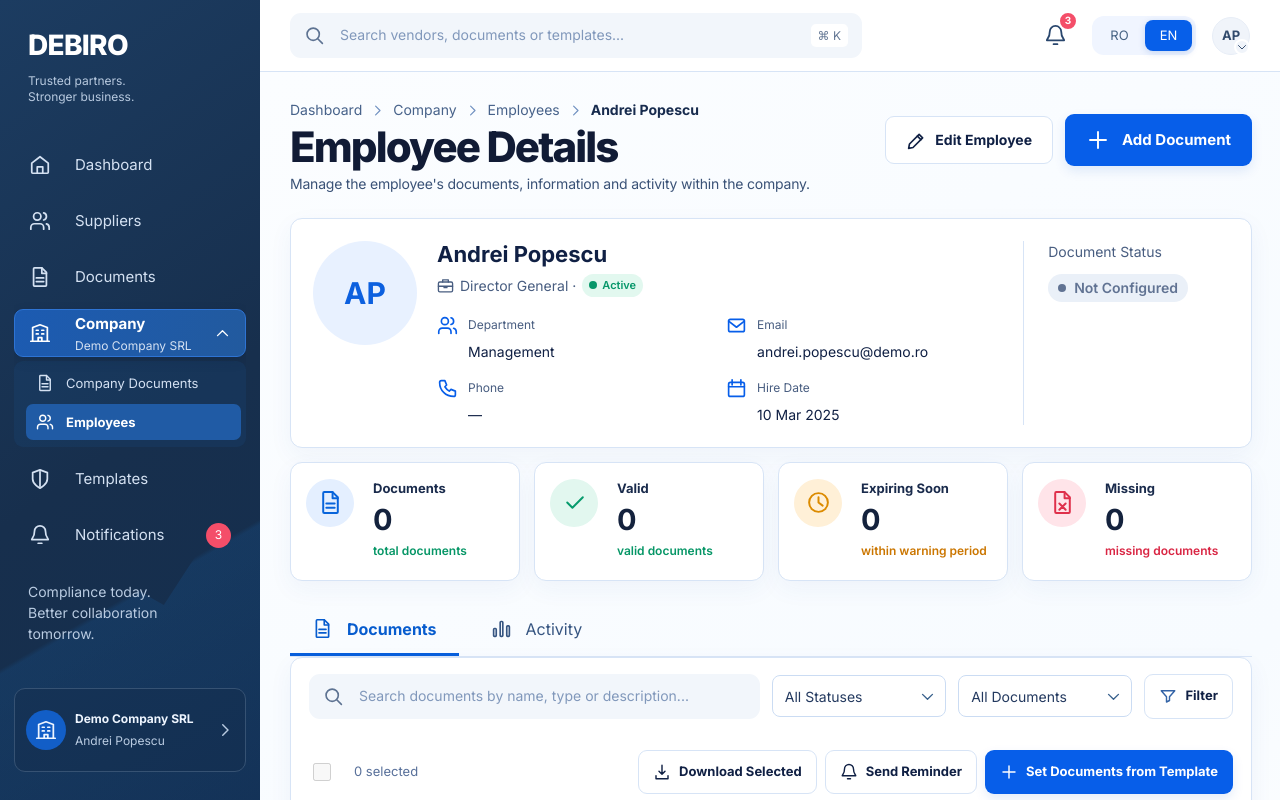
Test case: Employee Details shared document UI › has truthful empty status, no fixture activity, accessible tabs and no obsolete drawer notice in en
Expected: the heading "Employee Details" is shown, x1=290 y1=121 x2=618 y2=172
Expected: the heading "Andrei Popescu" is shown, x1=437 y1=241 x2=607 y2=267
Press ArrowRight in the tab "Documents", box x1=290 y1=605 x2=458 y2=656
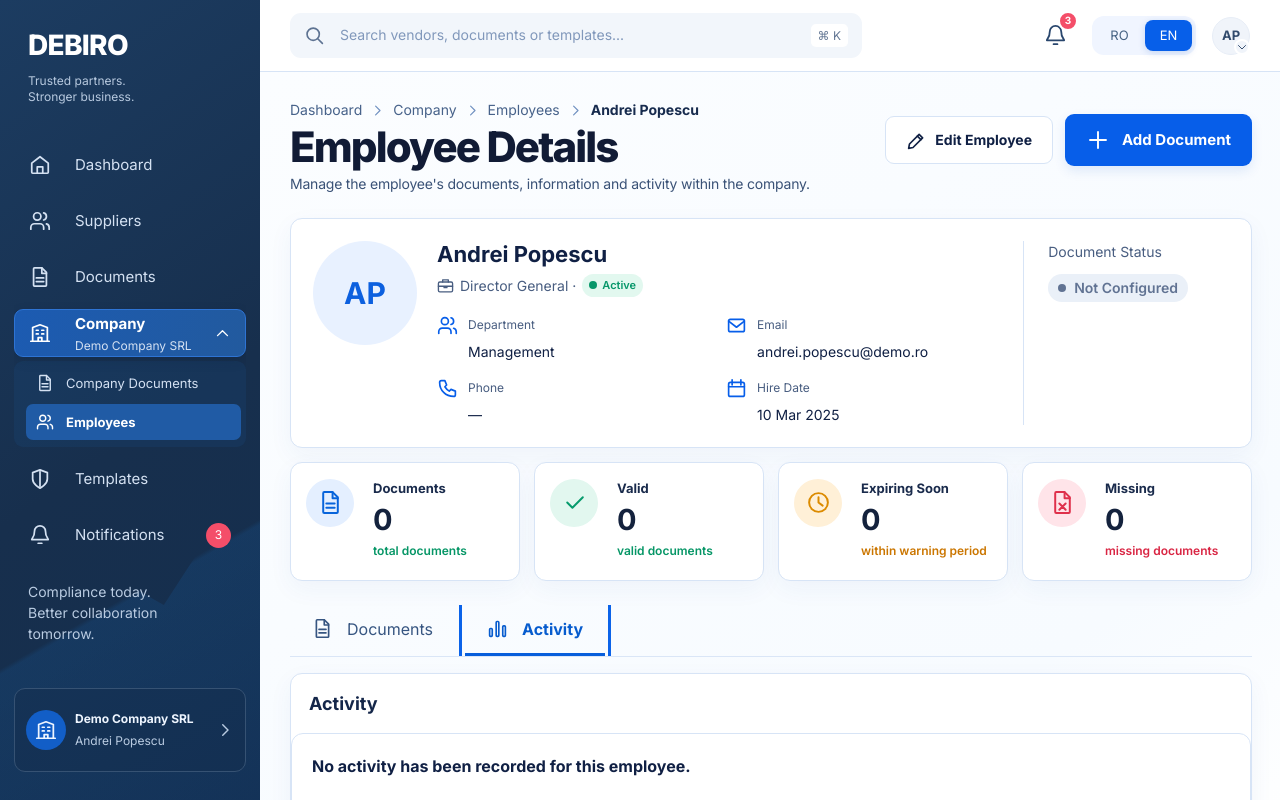
Expected: the text "No activity has been recorded for this employee." is shown, x1=312 y1=756 x2=691 y2=776
Click the tab "Documents" at (373, 630), box x1=290 y1=605 x2=455 y2=656
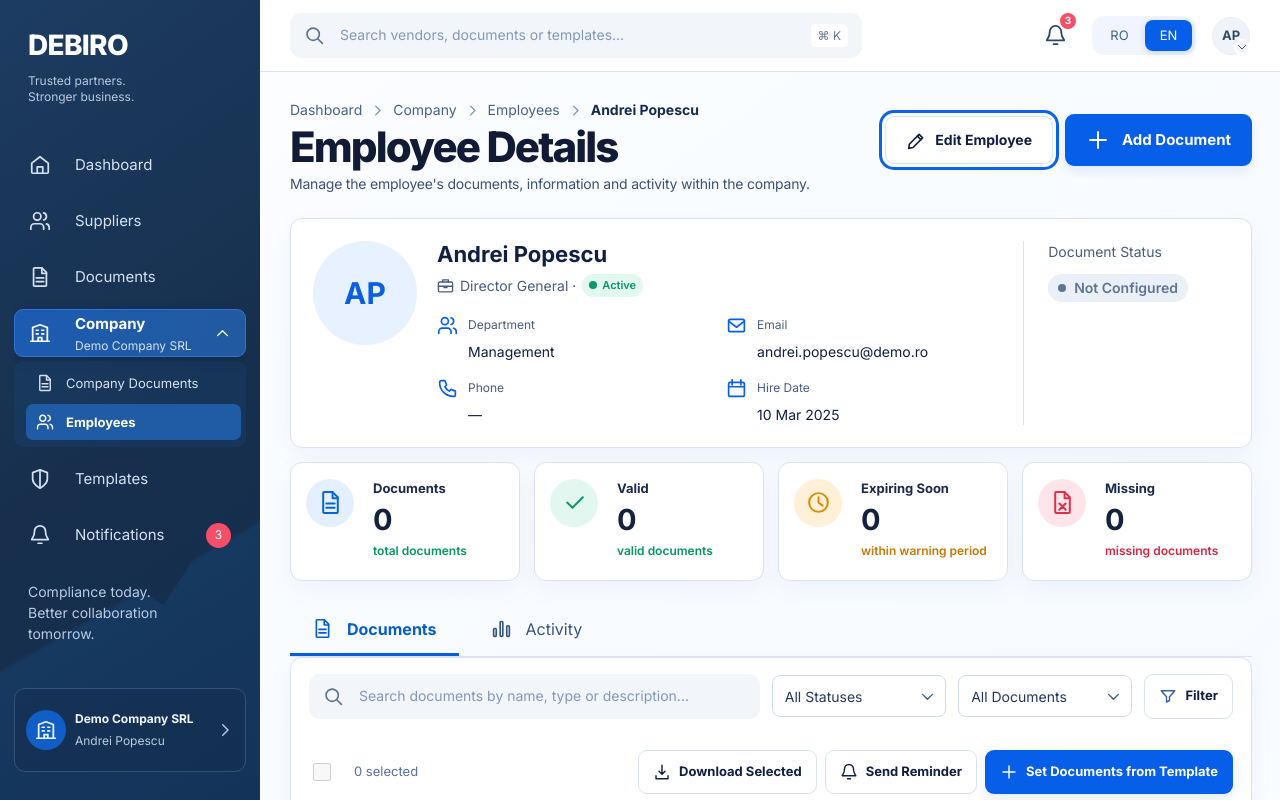
Click the button "Edit Employee" at (969, 140), box x1=885 y1=116 x2=1053 y2=164
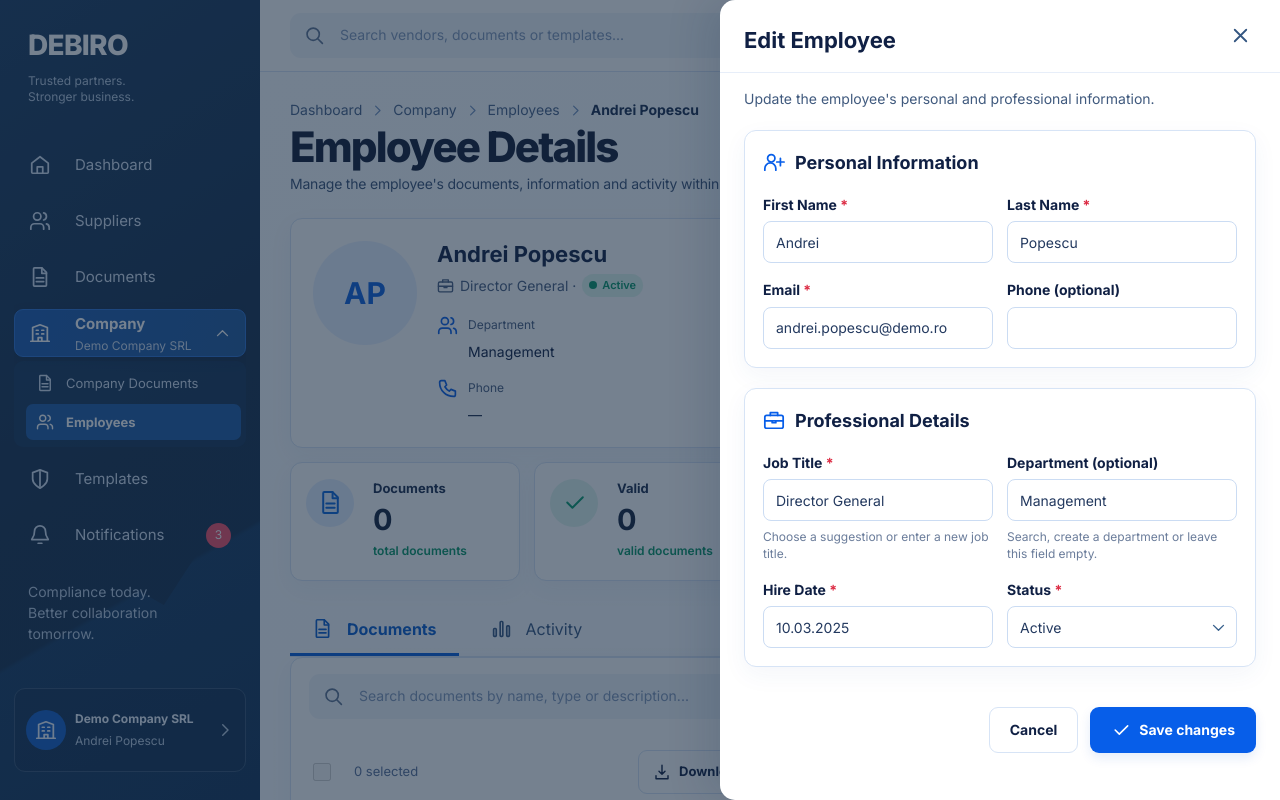
Press Escape
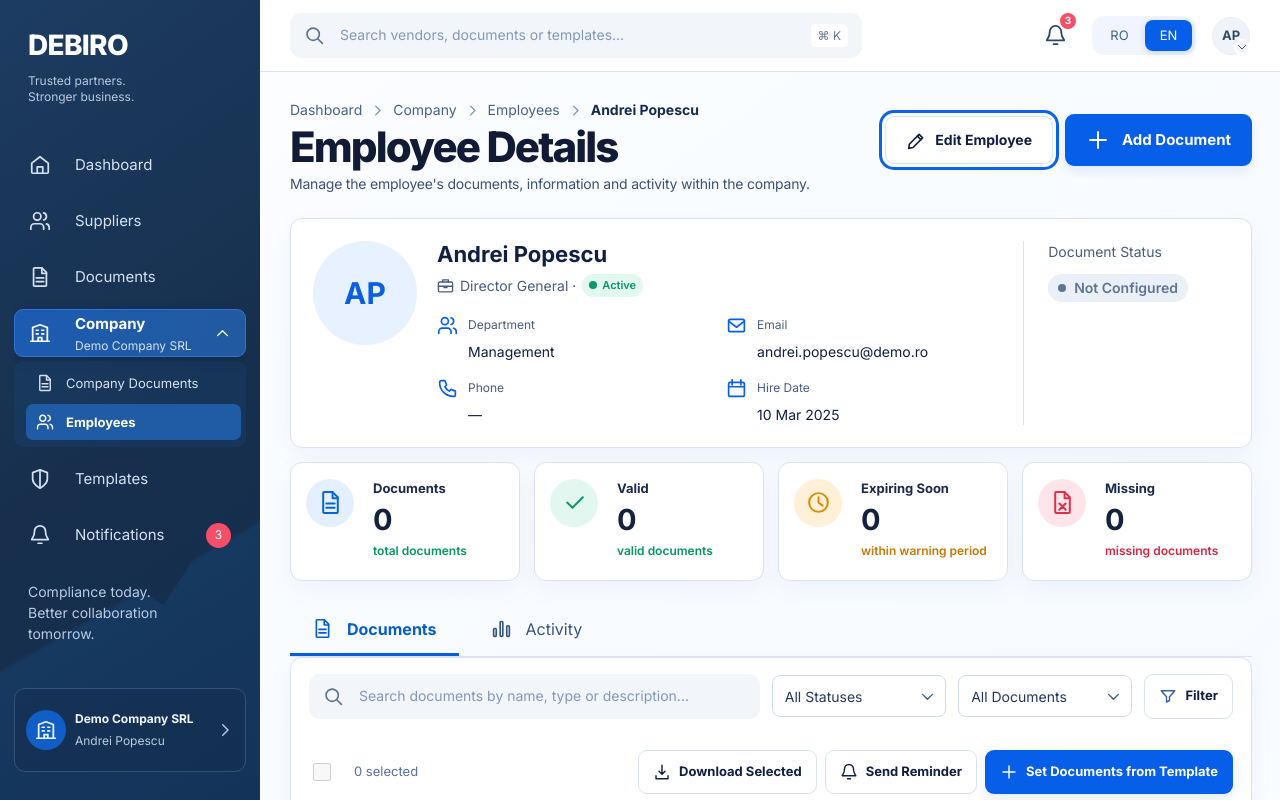
Expected: the dialog is gone
